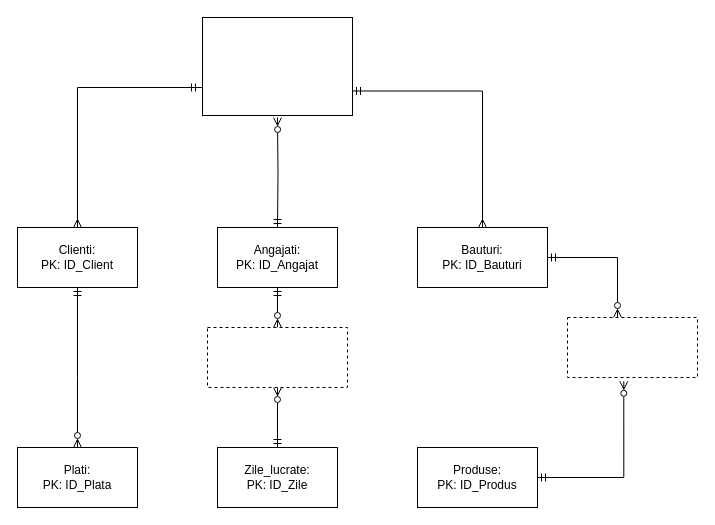
The diagram is 715 pixels wide and 525 high, and some of its shapes have lost their labels. Here are the shapes that lost their labels. From the top down, the centre of each, then its label:
At (277,66): "Comenzi PK: ID_Comanda FK:ID_Client FK:ID_Angajat FK: ID_Bauturi".
At (277,357): "Zile_lucrate_Angajat: PK: ID_Zile PK: ID_Angajat".
At (632,347): "Produse_Bauturi: PK: ID_Bauturi PK: ID_Produs".
